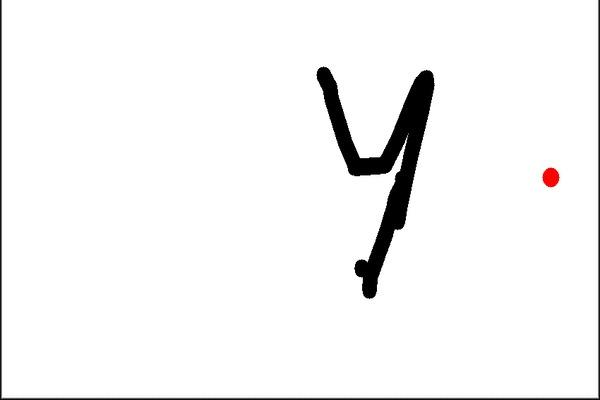Y: (299, 57, 447, 307)
